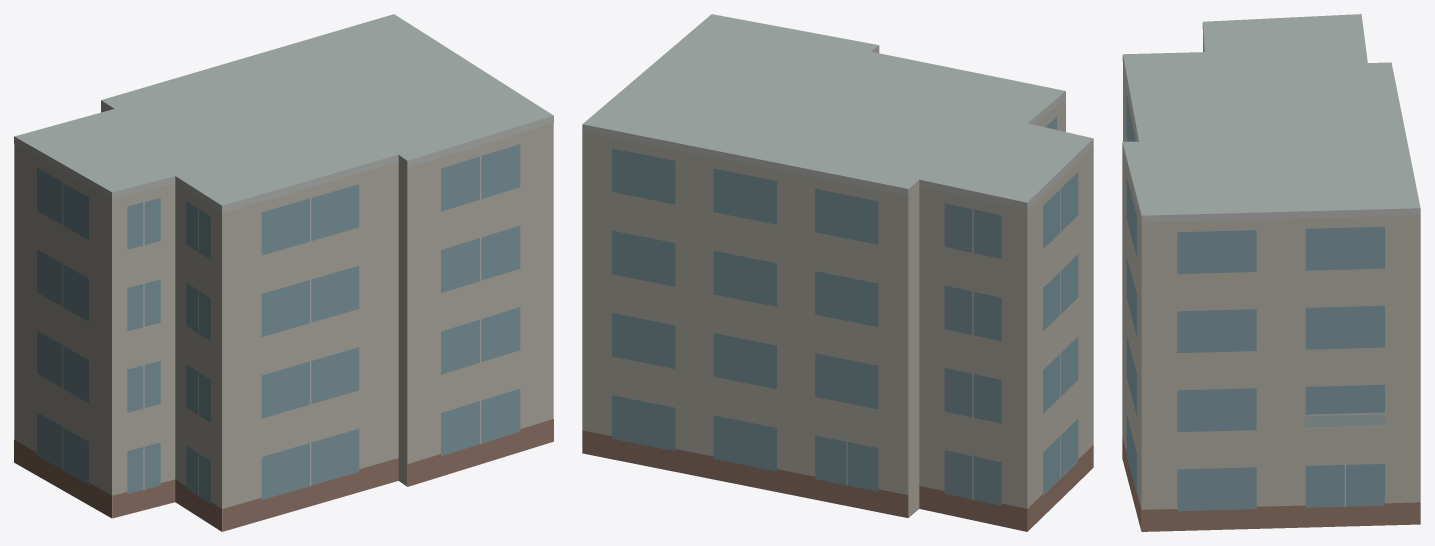
The model's file is survey-upis-32888497.glb.
The picture shows the model from 3 angles, left to right: view 1: azimuth 30°, elevation 25°; view 2: azimuth 150°, elevation 25°; view 3: azimuth 270°, elevation 25°; orthographic projection. The views are drawn at different scales.
Visible parts, largest first — view 1: survey-upis-32888497.tmp; view 2: survey-upis-32888497.tmp; view 3: survey-upis-32888497.tmp.
Part boxes in pixels (x1,y1,x2,y2): survey-upis-32888497.tmp: [14, 14, 553, 531]; survey-upis-32888497.tmp: [582, 14, 1093, 531]; survey-upis-32888497.tmp: [1122, 14, 1420, 531].
Bounding box in the file's own units: 14.92 × 10.9 × 9.33.
